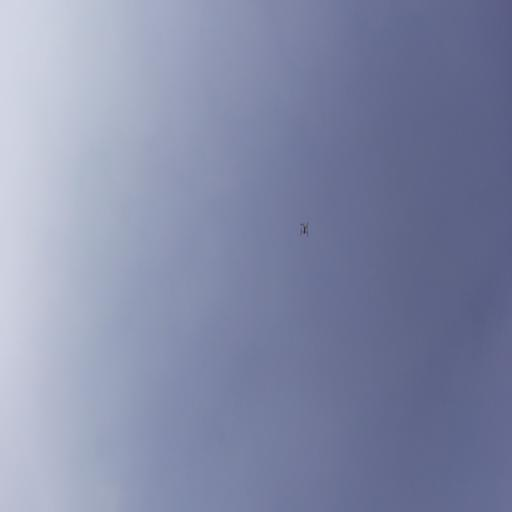drones: (299, 220, 311, 240)
